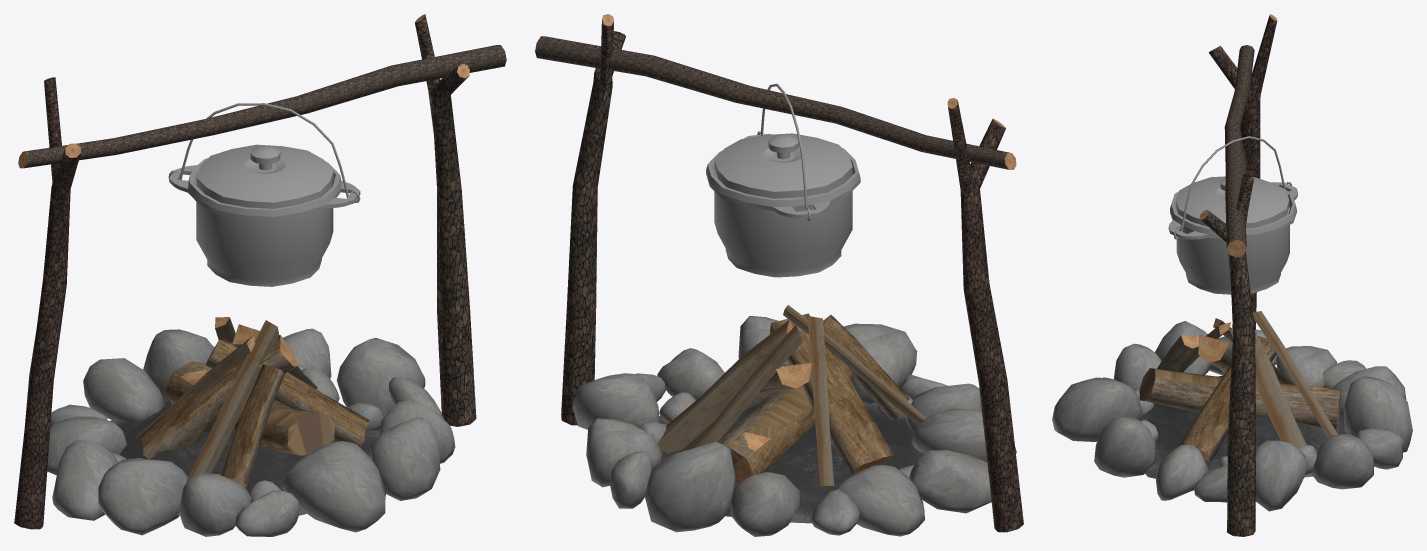
File: fireplace_all.FBX
3 views of the same model, side by side, from view 1: azimuth 30°, elevation 25°; view 2: azimuth 150°, elevation 25°; view 3: azimuth 270°, elevation 25° (orthographic). The views are drawn at different scales.
Visible parts, largest first — view 1: Cylinder015, pillar2, Pillar1, crossbar, Cylinder016, GeoSphere010, GeoSphere005, half_wood, GeoSphere008, GeoSphere009, Cylinder004, GeoSphere002 (+17 smaller); view 2: Pillar1, Cylinder015, pillar2, crossbar, Cylinder016, rock, ashes, half_wood, Cylinder004, GeoSphere003, GeoSphere017, quad_wood4 (+18 smaller); view 3: pillar2, Cylinder015, Cylinder004, GeoSphere010, crossbar, ashes, Cylinder016, rock, Pillar1, GeoSphere008, GeoSphere009, GeoSphere004 (+14 smaller).
Boxes of the visible parts, x1,y1,x2,y2 form: Cylinder015: (169,158,360,286); pillar2: (415,14,476,426); Pillar1: (14,77,80,529); crossbar: (18,45,506,168); Cylinder016: (196,144,333,208); GeoSphere010: (282,441,385,532); GeoSphere005: (98,458,188,535); half_wood: (139,334,297,459); GeoSphere008: (370,417,440,500); GeoSphere009: (336,338,425,417); Cylinder004: (165,361,334,455); GeoSphere002: (83,358,164,421); Pillar1: (947,98,1023,532); Cylinder015: (706,134,860,277); pillar2: (561,14,625,425); crossbar: (535,36,1016,169); Cylinder016: (714,133,852,198); rock: (644,441,735,532); ashes: (659,399,924,523); half_wood: (769,313,893,473); Cylinder004: (717,358,854,484); GeoSphere003: (835,465,924,536); GeoSphere017: (909,449,991,513); quad_wood4: (657,319,797,453); pillar2: (1199,174,1255,536); Cylinder015: (1168,182,1297,294); Cylinder004: (1139,368,1341,430); GeoSphere010: (1052,377,1142,441); crossbar: (1224,45,1254,257); ashes: (1140,375,1347,478); Cylinder016: (1176,176,1289,228); rock: (1344,376,1412,452); Pillar1: (1208,14,1277,329); GeoSphere008: (1094,416,1155,477); GeoSphere009: (1255,440,1308,511); GeoSphere004: (1312,434,1374,489).
Size of the model in its own units: 106 by 90.61 by 82.16.
